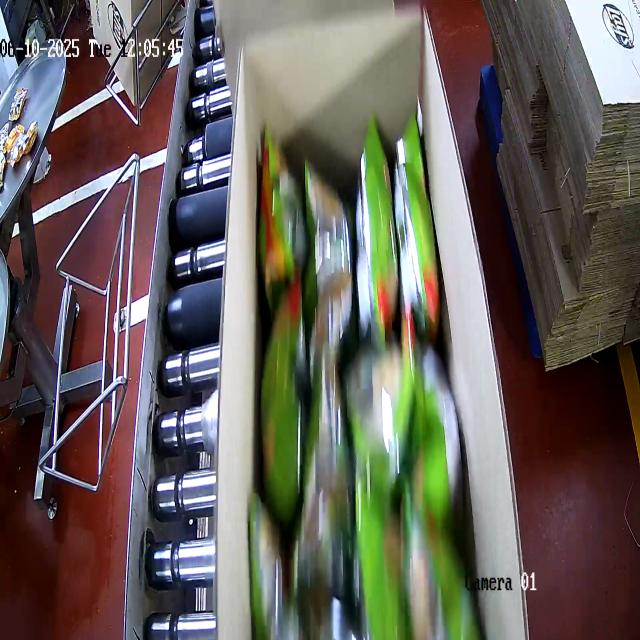YOGURT_HERB: (256, 100, 481, 640)
